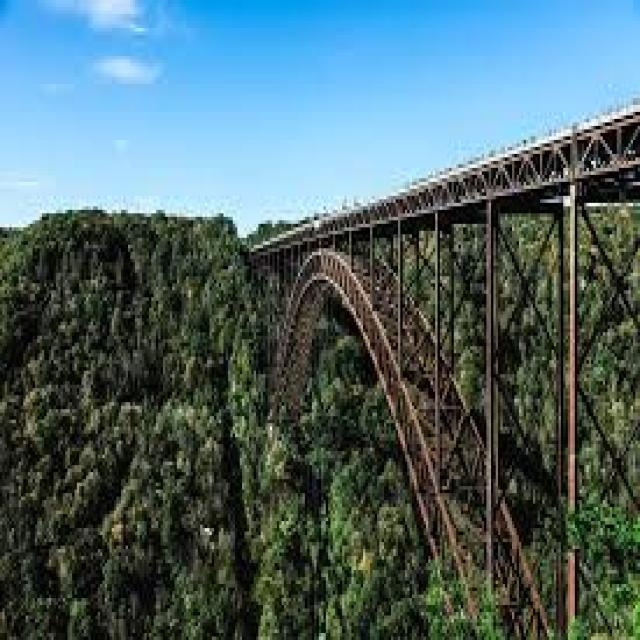Bridges: (223, 91, 640, 636)
